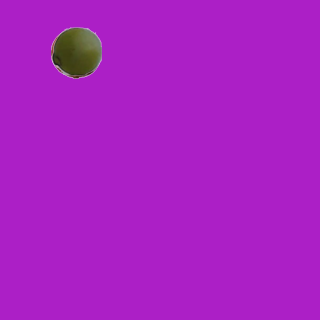Apple Braeburn: (50, 28, 100, 78)
Grape White 4: (51, 25, 101, 75)
